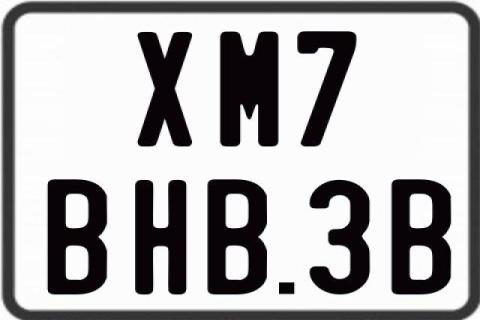0: (297, 30, 361, 148), (310, 178, 374, 294)
B: (389, 180, 454, 298), (205, 177, 266, 296), (47, 179, 106, 296)
H: (135, 180, 186, 299)
M: (220, 30, 282, 146)
X: (135, 32, 193, 150)
